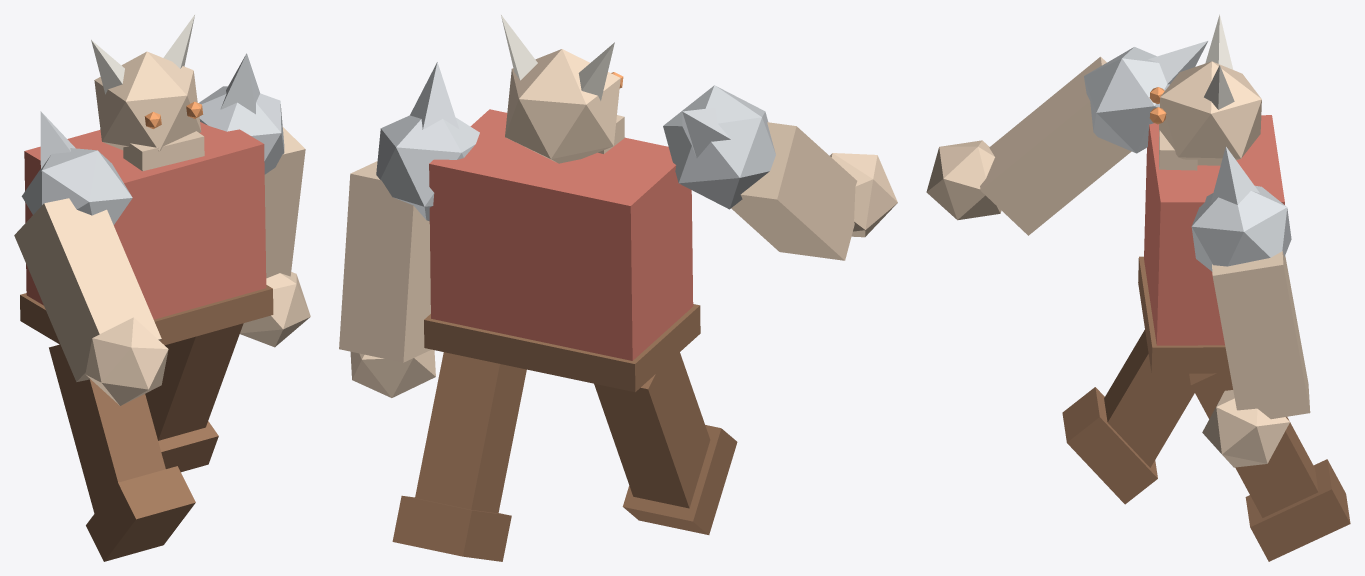
The model's file is npcpose_brute_walk_03.glb.
The picture shows the model from 3 angles, left to right: view 1: azimuth 30°, elevation 25°; view 2: azimuth 150°, elevation 25°; view 3: azimuth 270°, elevation 25°; orthographic projection. The views are drawn at different scales.
Parts seen in each view (by area): view 1: npcpose; view 2: npcpose; view 3: npcpose.
Boxes of the visible parts, x1=… form: npcpose: x1=14, y1=15, x2=310, y2=561; npcpose: x1=339, y1=15, x2=897, y2=561; npcpose: x1=926, y1=14, x2=1350, y2=561.
Bounding box in the file's own units: 1.41 × 1.85 × 1.49.
